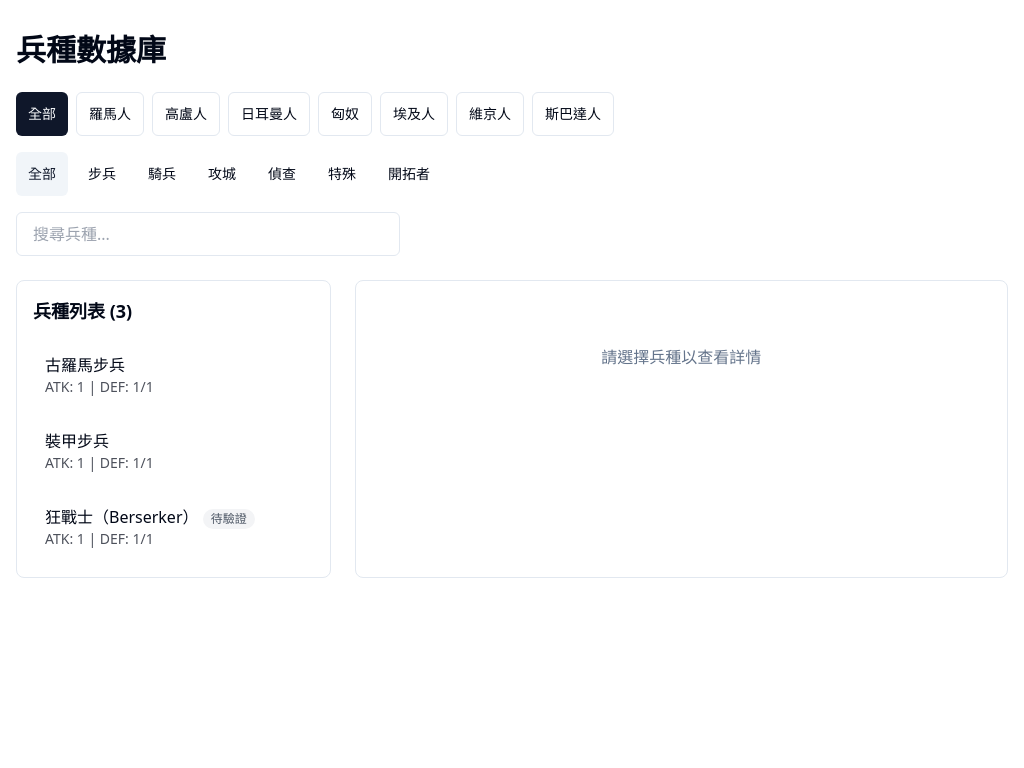
Test: TroopsPage: one 「待驗證」 chip for unit costs / upkeep / training time (P0-17) › 古羅馬步兵: no units chip (Roman costs read from the ts11 in-game help, P0-18)
The image size is (1024, 768).
Click the text "古羅馬步兵". click: (85, 365)
box: top-left (45, 354), bottom-right (125, 376)
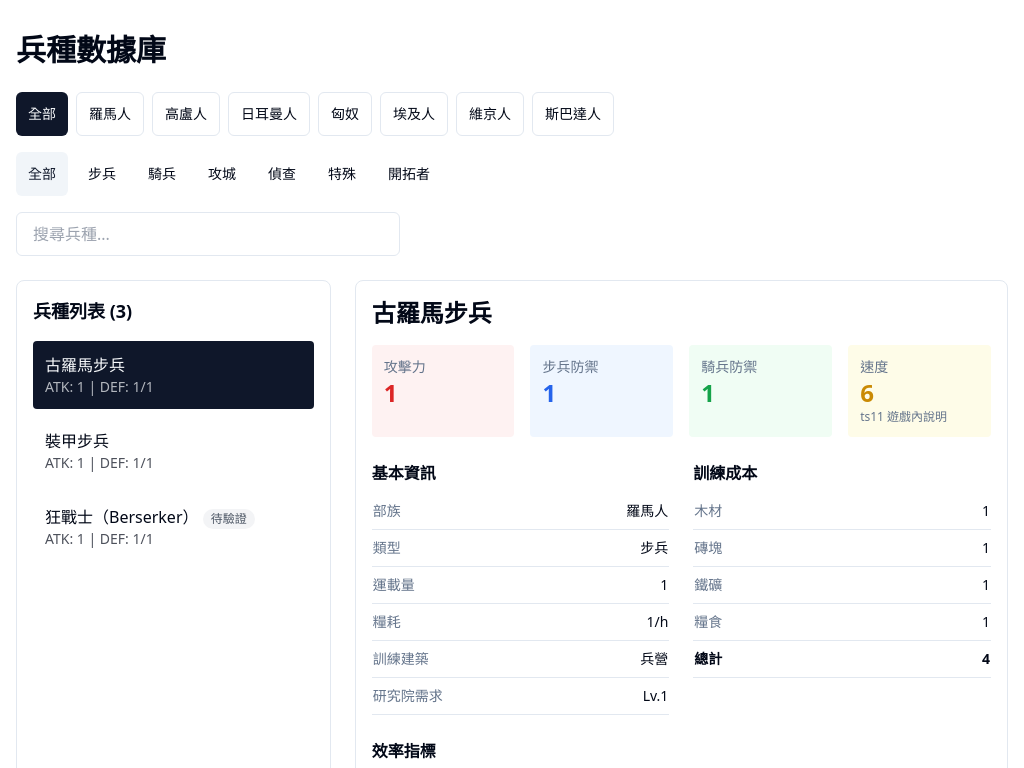
Expected: the heading "訓練成本" is shown, top-left (693, 462), bottom-right (757, 484)
